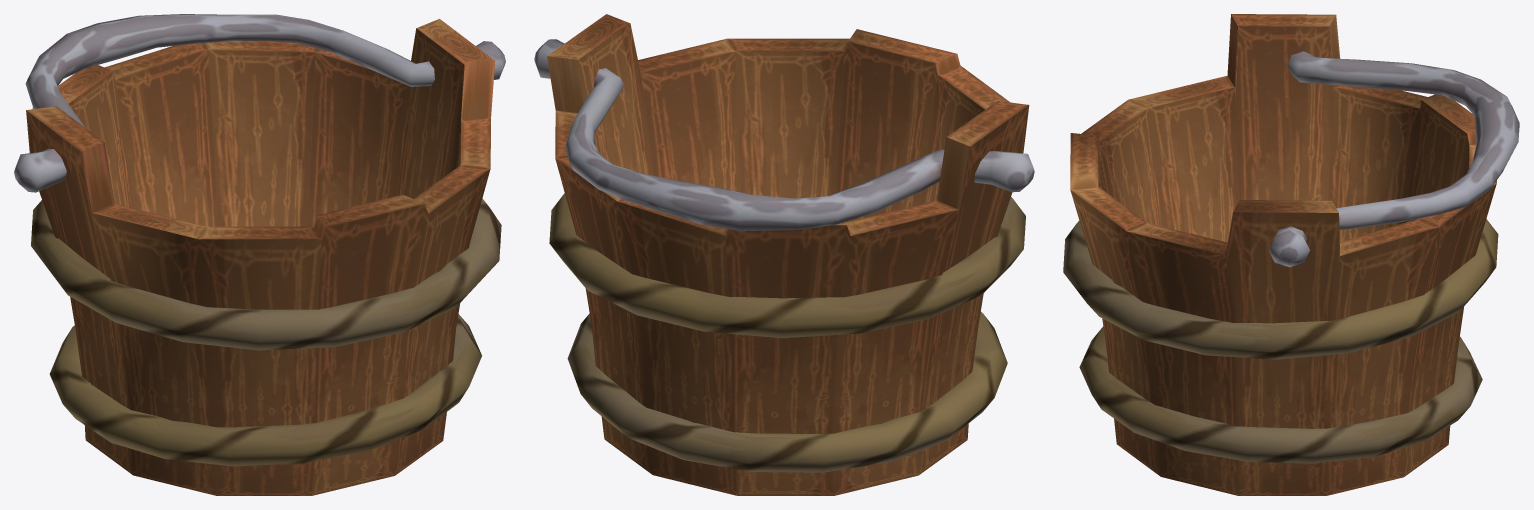
The model's file is Bucket_Wooden_1.gltf.
3 views of the same model, side by side, from view 1: azimuth 30°, elevation 25°; view 2: azimuth 150°, elevation 25°; view 3: azimuth 270°, elevation 25° (orthographic). The views are drawn at different scales.
Parts seen in each view (by area): view 1: Bucket_Wooden_1; view 2: Bucket_Wooden_1; view 3: Bucket_Wooden_1.
Part boxes in pixels (x1,y1,x2,y2): Bucket_Wooden_1: [14, 14, 505, 495]; Bucket_Wooden_1: [534, 14, 1034, 495]; Bucket_Wooden_1: [1063, 14, 1519, 495].
Bounding box in the file's own units: 0.4339 × 0.2928 × 0.3835.
Materials: 2 (2 with a texture image).
